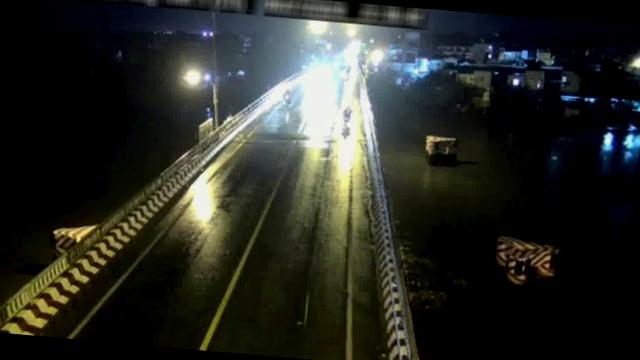Bike: (342, 105, 357, 128), (278, 86, 292, 105)
